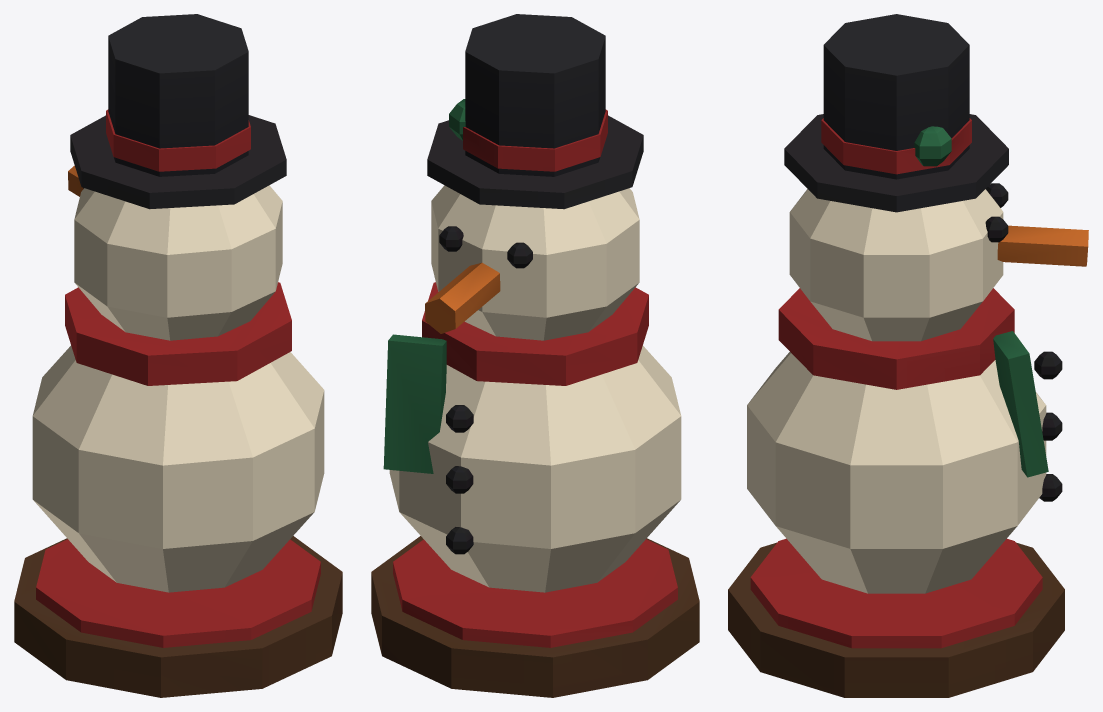
File: xmas_snowman_lamp_low.glb
The picture shows the model from 3 angles, left to right: view 1: azimuth 30°, elevation 25°; view 2: azimuth 150°, elevation 25°; view 3: azimuth 270°, elevation 25°; orthographic projection.
Parts seen in each view (by area): view 1: xmas_snowman_lamp; view 2: xmas_snowman_lamp; view 3: xmas_snowman_lamp.
Boxes of the visible parts, x1,y1,x2,y2 form: xmas_snowman_lamp: (14,14,342,697); xmas_snowman_lamp: (371,14,699,697); xmas_snowman_lamp: (728,14,1088,697).
Size of the model in its own units: 0.2853 by 0.575 by 0.3211.
